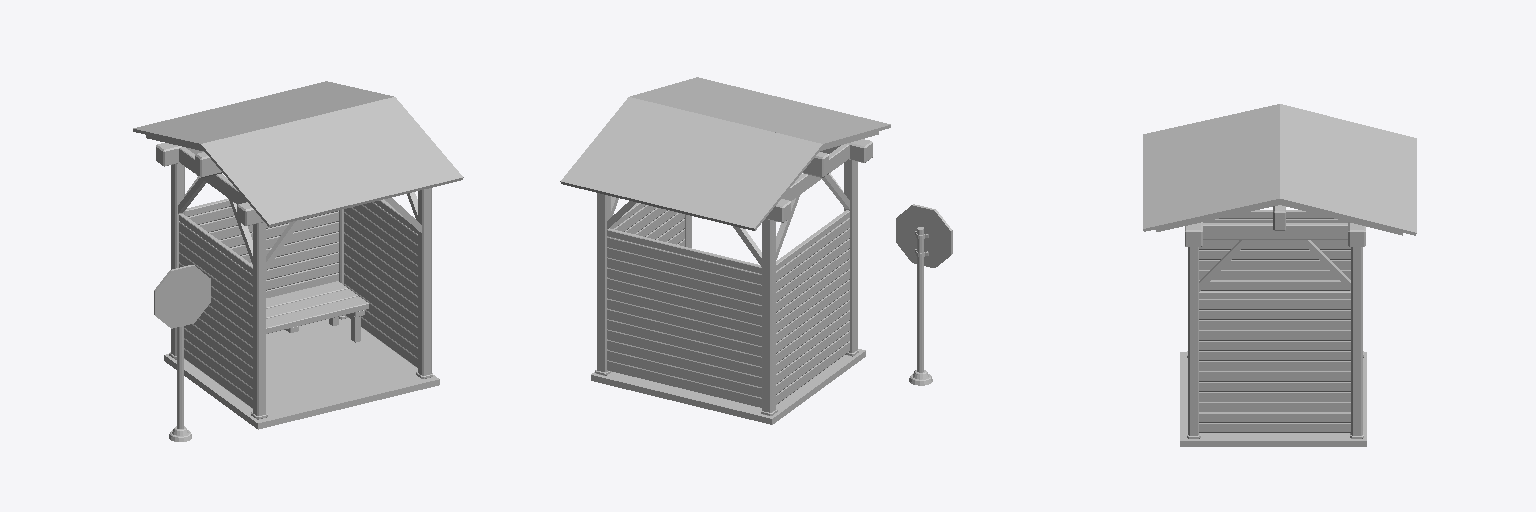
The model's file is Japanese bus stop.obj.
3 views of the same model, side by side, from view 1: azimuth 30°, elevation 25°; view 2: azimuth 150°, elevation 25°; view 3: azimuth 270°, elevation 25° (orthographic).
Visible parts, largest first — view 1: Plane.005, Plane, Cube.003, Cube.007_Cube.011, Plane.006, Cube.004_Cube.008, Plane.001, Circle, Cube, Cube.009_Cube.013, Cube.006_Cube.010, Cylinder_Cylinder.001 (+3 smaller); view 2: Cube.004_Cube.008, Plane.006, Cube.007_Cube.011, Plane.005, Plane, Cube.006_Cube.010, Circle, Cube.001_Cube.007, Cube.009_Cube.013, Cube.003, Cylinder_Cylinder.001, Cube.005_Cube.009 (+3 smaller); view 3: Cube.003, Plane.006, Plane.005, Cube.007_Cube.011, Plane, Cube.012_Cube.005, Cube.001_Cube.007, Cube, Cube.002, Cube.008_Cube.012.
Boxes of the visible parts, x1=… form: Plane.005: x1=201, y1=97, x2=463, y2=226; Plane: x1=164, y1=318, x2=439, y2=429; Cube.003: x1=344, y1=202, x2=417, y2=367; Cube.007_Cube.011: x1=179, y1=221, x2=252, y2=408; Plane.006: x1=133, y1=81, x2=393, y2=146; Cube.004_Cube.008: x1=188, y1=207, x2=338, y2=297; Plane.001: x1=266, y1=281, x2=368, y2=333; Circle: x1=154, y1=265, x2=210, y2=328; Cube: x1=416, y1=188, x2=432, y2=378; Cube.009_Cube.013: x1=251, y1=222, x2=267, y2=419; Cube.006_Cube.010: x1=169, y1=163, x2=184, y2=359; Cylinder_Cylinder.001: x1=169, y1=326, x2=191, y2=441; Cube.004_Cube.008: x1=607, y1=237, x2=761, y2=407; Plane.006: x1=560, y1=97, x2=822, y2=230; Cube.007_Cube.011: x1=776, y1=218, x2=849, y2=404; Plane.005: x1=630, y1=77, x2=890, y2=146; Plane: x1=591, y1=349, x2=865, y2=424; Cube.006_Cube.010: x1=761, y1=219, x2=777, y2=415; Circle: x1=896, y1=204, x2=952, y2=267; Cube.001_Cube.007: x1=595, y1=193, x2=611, y2=375; Cube.009_Cube.013: x1=844, y1=159, x2=858, y2=356; Cube.003: x1=614, y1=205, x2=684, y2=246; Cylinder_Cylinder.001: x1=909, y1=227, x2=932, y2=385; Cube.005_Cube.009: x1=607, y1=228, x2=761, y2=273; Cube.003: x1=1199, y1=299, x2=1350, y2=432; Plane.006: x1=1279, y1=104, x2=1416, y2=235; Plane.005: x1=1143, y1=104, x2=1279, y2=231; Cube.007_Cube.011: x1=1199, y1=219, x2=1350, y2=290; Plane: x1=1180, y1=352, x2=1366, y2=446; Cube.012_Cube.005: x1=1202, y1=223, x2=1347, y2=239; Cube.001_Cube.007: x1=1350, y1=247, x2=1363, y2=438; Cube: x1=1187, y1=247, x2=1200, y2=438; Cube.002: x1=1199, y1=291, x2=1350, y2=298; Cube.008_Cube.012: x1=1219, y1=210, x2=1333, y2=218.
Bounding box in the file's own units: 8.21 × 6.9 × 6.83.